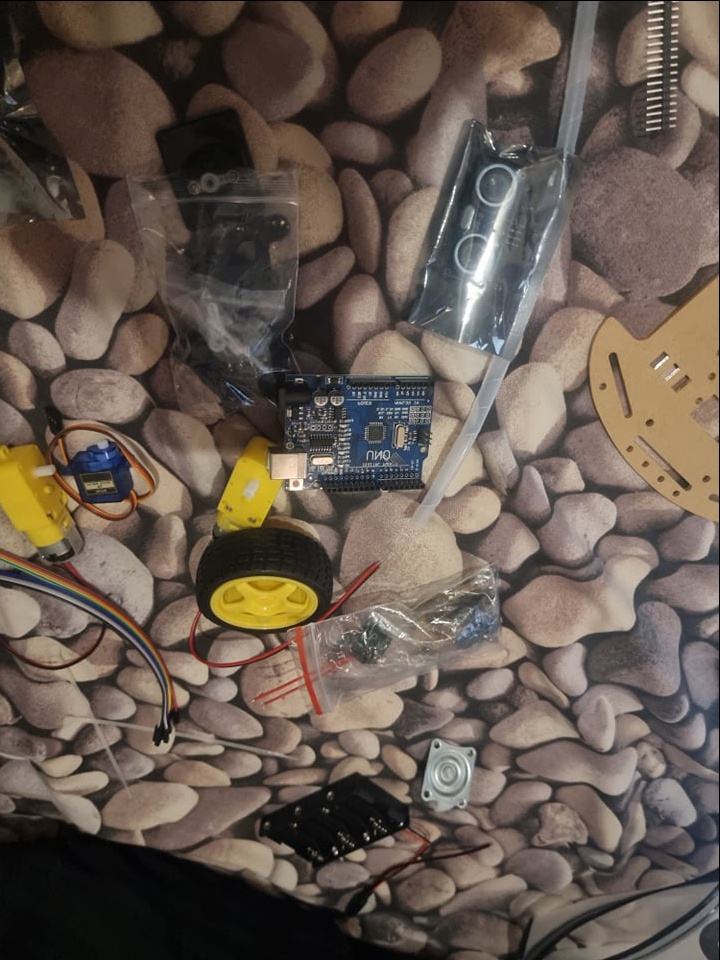BATTERY BOX: (260, 774, 411, 869)
SENSOR: (454, 152, 520, 284)
UNO R3: (267, 370, 439, 501)
